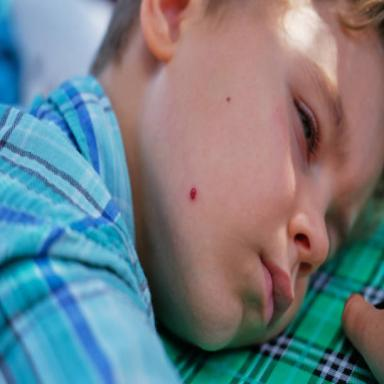Hemangiome: (190, 187, 197, 200)
